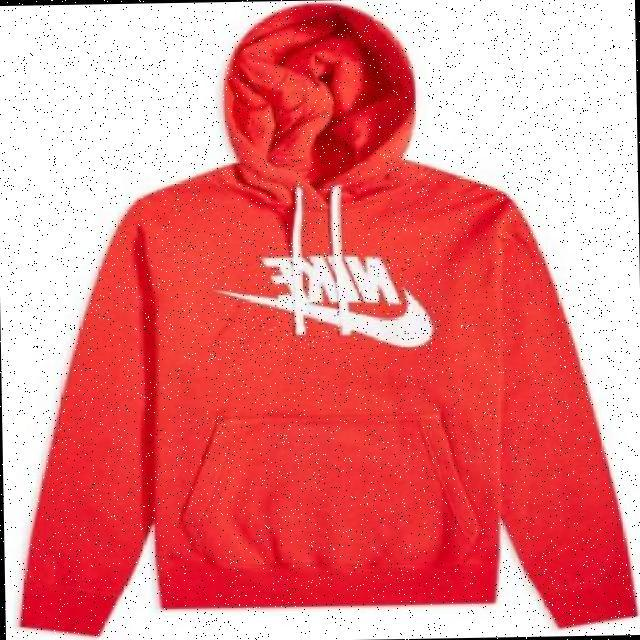Nike: (215, 252, 436, 350)
